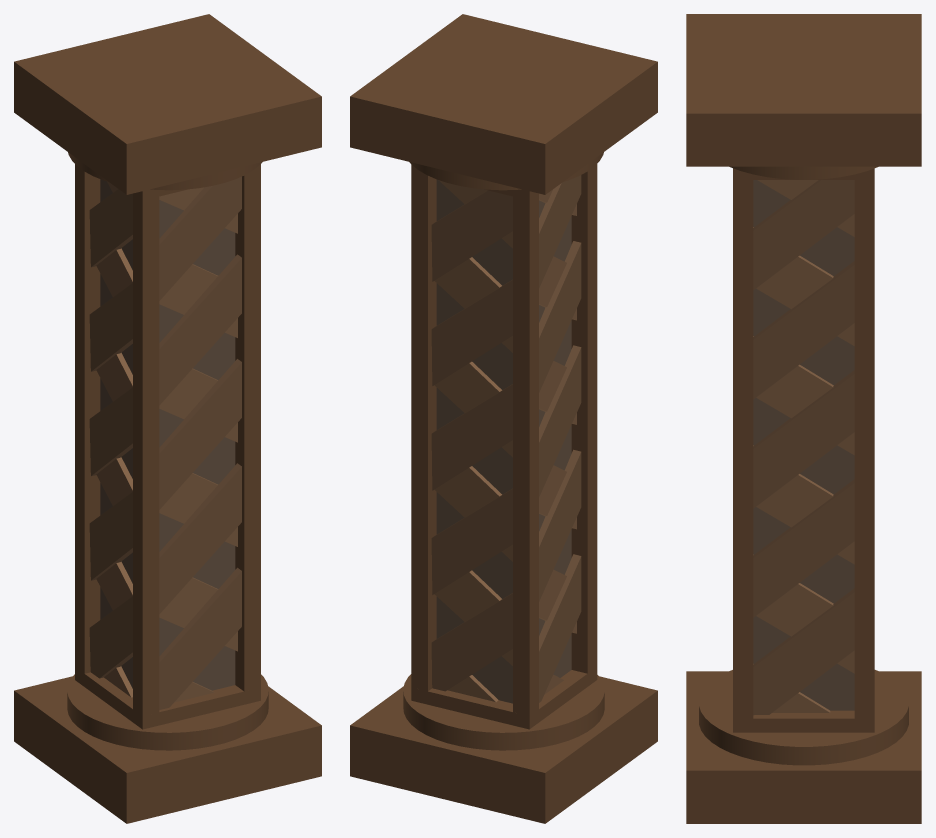
Rendered from NorsePillar_F.fbx.
3 renders of one model, left to right at view 1: azimuth 30°, elevation 25°; view 2: azimuth 150°, elevation 25°; view 3: azimuth 270°, elevation 25°, orthographic. The views are drawn at different scales.
Visible parts, largest first — view 1: pasted__group4_pasted__pasted__pasted__pasted__pCube2; view 2: pasted__group4_pasted__pasted__pasted__pasted__pCube2; view 3: pasted__group4_pasted__pasted__pasted__pasted__pCube2.
Part boxes in pixels (x1,y1,x2,y2): pasted__group4_pasted__pasted__pasted__pasted__pCube2: (14,14,321,823); pasted__group4_pasted__pasted__pasted__pasted__pCube2: (350,14,657,823); pasted__group4_pasted__pasted__pasted__pasted__pCube2: (686,14,921,823).
Size of the model in its own units: 0.9779 by 3.26 by 0.9779.
